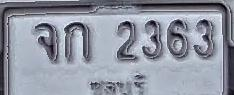2: (116, 20, 138, 62)
3: (193, 18, 216, 59), (142, 19, 164, 60)
6: (167, 19, 190, 60)
A01: (64, 21, 92, 63)
A08: (33, 22, 59, 63)
CBI: (86, 71, 147, 95)
